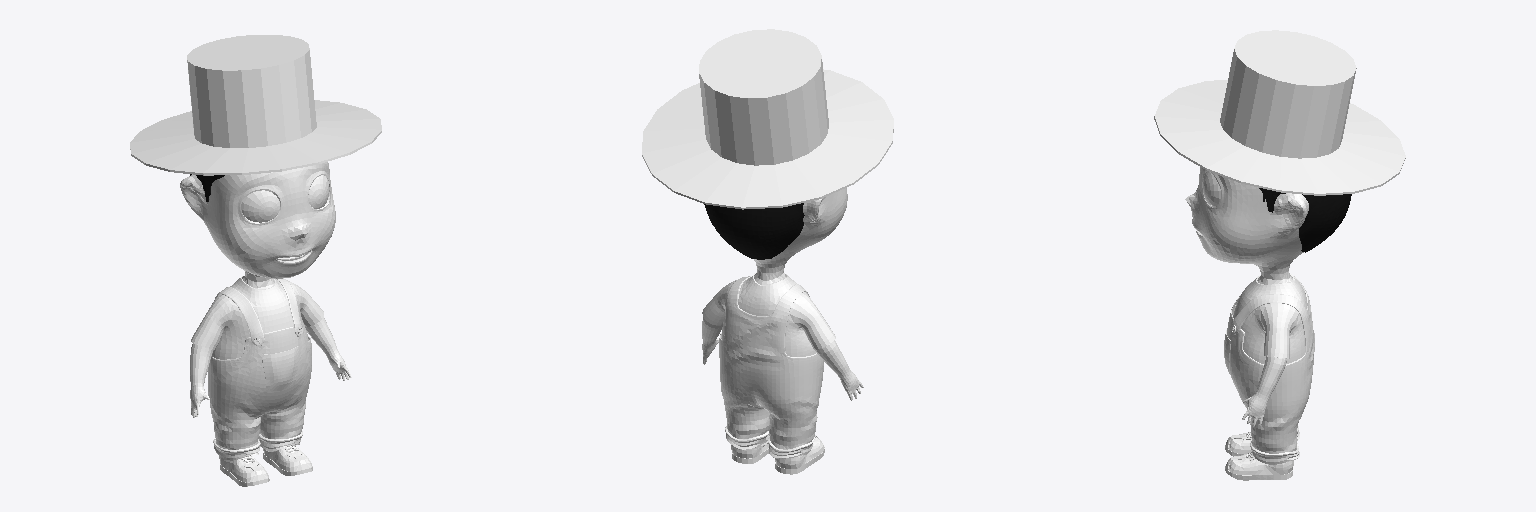
The picture shows the model from 3 angles: view 1: azimuth 30°, elevation 25°; view 2: azimuth 150°, elevation 25°; view 3: azimuth 270°, elevation 25°; orthographic projection.
Parts seen in each view (by area): view 1: hat_red_메쉬.025, Body_메쉬.010, jeans_메쉬.004, T_shirt_in_메쉬.020, cloth_01_메쉬.021, R_eye_메쉬.012, R_shoe_p1_메쉬.008, L_shoe_p1_메쉬.023, L_eye_메쉬.013; view 2: hat_red_메쉬.025, jeans_메쉬.004, T_shirt_in_메쉬.020, Body_메쉬.010, Hairs_메쉬.011, R_shoe_p1_메쉬.008; view 3: hat_red_메쉬.025, Body_메쉬.010, jeans_메쉬.004, T_shirt_in_메쉬.020, Hairs_메쉬.011, L_shoe_p1_메쉬.023.
Boxes of the visible parts, <box> form: hat_red_메쉬.025: <box>130,35,381,175</box>; Body_메쉬.010: <box>180,162,351,417</box>; jeans_메쉬.004: <box>208,278,311,449</box>; T_shirt_in_메쉬.020: <box>191,276,323,359</box>; cloth_01_메쉬.021: <box>262,346,298,390</box>; R_eye_메쉬.012: <box>241,190,279,222</box>; R_shoe_p1_메쉬.008: <box>219,455,268,482</box>; L_shoe_p1_메쉬.023: <box>263,446,312,471</box>; L_eye_메쉬.013: <box>308,175,329,208</box>; hat_red_메쉬.025: <box>642,29,893,209</box>; jeans_메쉬.004: <box>719,276,823,449</box>; T_shirt_in_메쉬.020: <box>702,272,835,356</box>; Body_메쉬.010: <box>702,188,863,400</box>; Hairs_메쉬.011: <box>704,203,804,259</box>; R_shoe_p1_메쉬.008: <box>775,435,824,468</box>; hat_red_메쉬.025: <box>1154,30,1405,195</box>; Body_메쉬.010: <box>1185,167,1308,426</box>; jeans_메쉬.004: <box>1227,276,1314,453</box>; T_shirt_in_메쉬.020: <box>1233,274,1307,364</box>; Hairs_메쉬.011: <box>1259,188,1351,252</box>; L_shoe_p1_메쉬.023: <box>1226,453,1293,474</box>.
Size of the model in its own units: 0.5105 by 0.9158 by 0.5035.